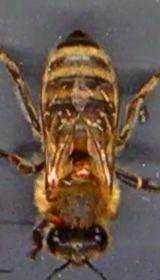varroa_mite: (37, 204, 70, 230)
